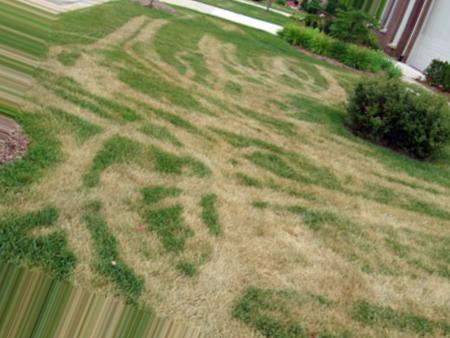patch: (50, 146, 156, 238), (209, 204, 325, 287), (69, 65, 142, 140), (125, 250, 203, 309), (177, 110, 218, 174), (331, 274, 409, 300), (337, 191, 384, 224), (200, 35, 232, 80), (302, 139, 343, 161), (222, 179, 240, 198), (128, 17, 139, 37)
